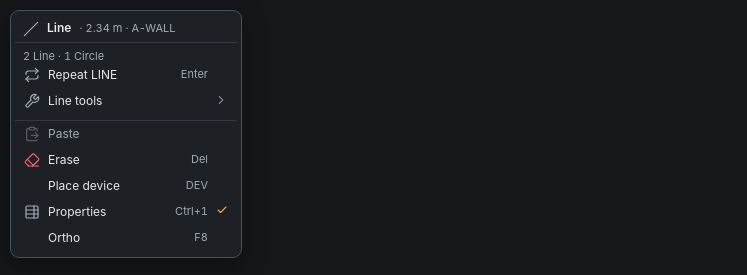
Test case: CadMenu › a list inside a list opens beside its row; the current choice shows a check and the word now
Later steps or results of the test are not shown.
Click the menu item "Line tools": (126, 104) [15, 92, 237, 116]
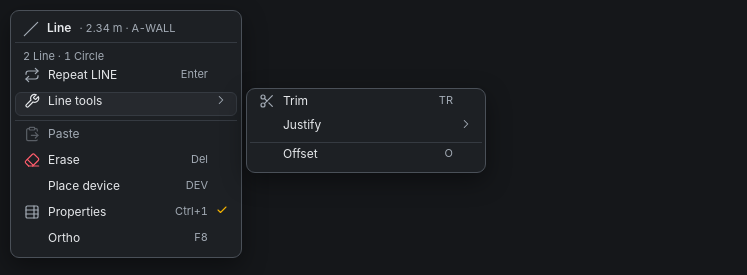
Click the menu item "Justify": (366, 128) [250, 116, 482, 140]
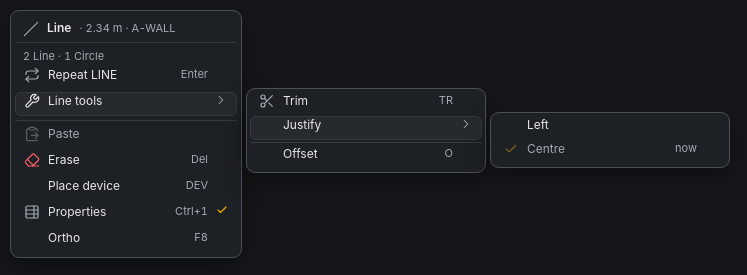
Result: the menu named "Justify" is shown at [490, 112, 730, 168]
Result: the text "now" is shown at [675, 141, 697, 157]
Result: the menu item "Centre now" is disabled at [494, 140, 726, 164]
